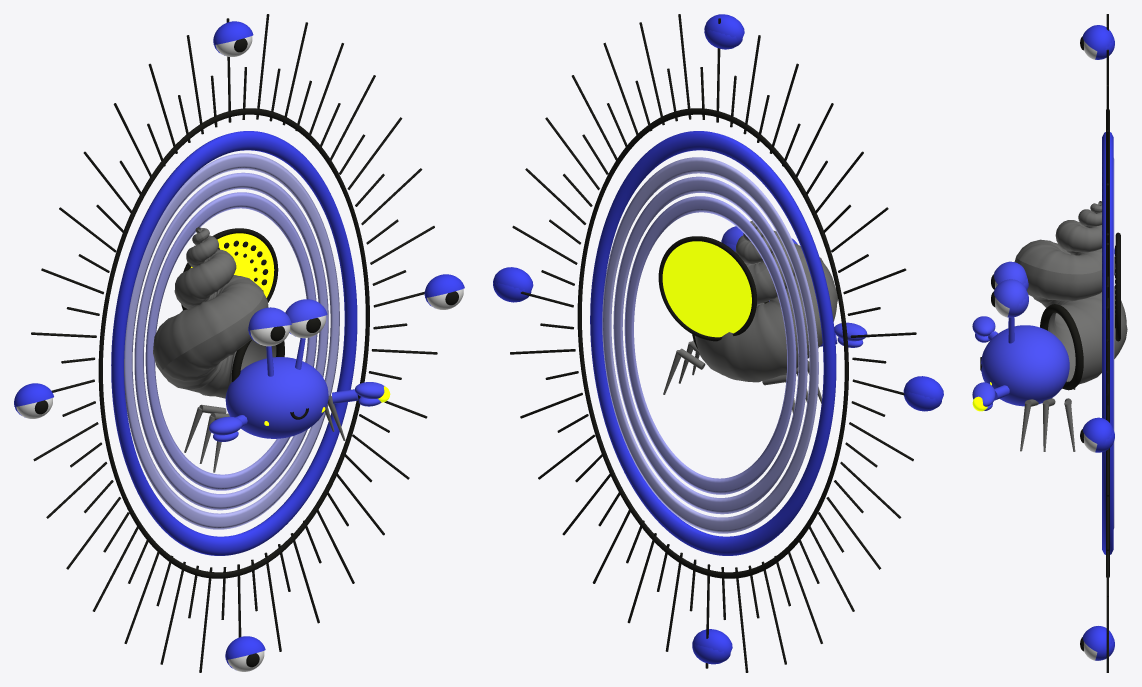
The model's file is mandorla.glb.
The picture shows the model from 3 angles, left to right: view 1: azimuth 30°, elevation 25°; view 2: azimuth 150°, elevation 25°; view 3: azimuth 270°, elevation 25°; orthographic projection. The views are drawn at different scales.
Parts seen in each view (by area): view 1: Mandorla, object 1, object 3, object 10, object 15, object 43, object 39; view 2: Mandorla, object 1, object 51, object 47, object 39, object 43; view 3: object 1, Mandorla, object 3, object 2, object 15, object 51, object 39, object 43, object 10, object 21, object 18.
Boxes of the visible parts, x1=… form: Mandorla: x1=31, y1=14, x2=437, y2=672; object 1: x1=153, y1=227, x2=276, y2=398; object 3: x1=225, y1=357, x2=328, y2=438; object 10: x1=248, y1=307, x2=291, y2=330; object 15: x1=285, y1=299, x2=327, y2=323; object 43: x1=225, y1=636, x2=265, y2=659; object 39: x1=213, y1=21, x2=253, y2=44; Mandorla: x1=510, y1=14, x2=916, y2=672; object 1: x1=695, y1=221, x2=837, y2=382; object 51: x1=493, y1=267, x2=533, y2=292; object 47: x1=903, y1=376, x2=943, y2=403; object 39: x1=704, y1=14, x2=744, y2=41; object 43: x1=692, y1=629, x2=732, y2=655; object 1: x1=1014, y1=201, x2=1127, y2=384; Mandorla: x1=1102, y1=14, x2=1120, y2=672; object 3: x1=981, y1=325, x2=1069, y2=406; object 2: x1=1040, y1=304, x2=1083, y2=390; object 15: x1=993, y1=279, x2=1027, y2=310; object 51: x1=1082, y1=417, x2=1113, y2=445; object 39: x1=1082, y1=25, x2=1113, y2=52; object 43: x1=1082, y1=626, x2=1113, y2=653; object 10: x1=993, y1=261, x2=1026, y2=284; object 21: x1=972, y1=382, x2=995, y2=406; object 18: x1=972, y1=316, x2=995, y2=336.
Size of the model in its own units: 3.45 by 4.81 by 1.08.
